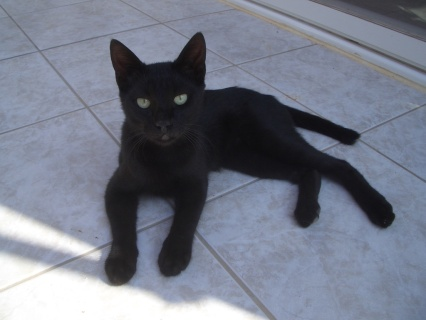Cat: (95, 31, 397, 285)
